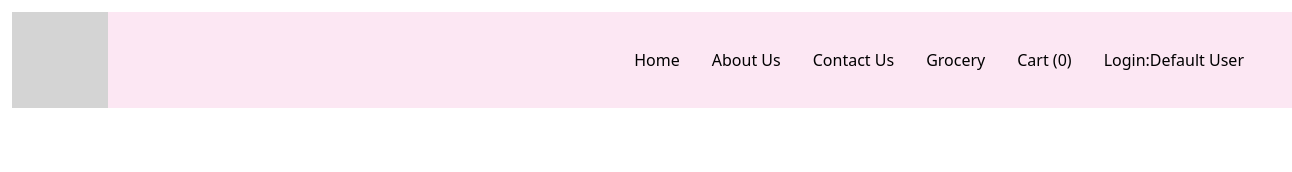
Test case: should load Header component with a login button
Step 1. Click the button "Login:Default User" → (1174, 60), box [1104,48,1244,72]
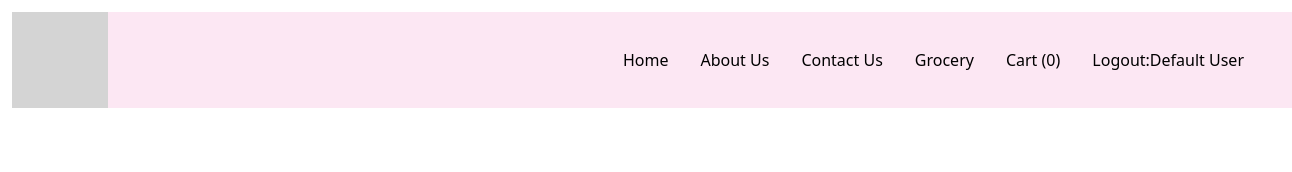
expect the button "Logout:Default User" is shown: met, box [1092,48,1244,72]
